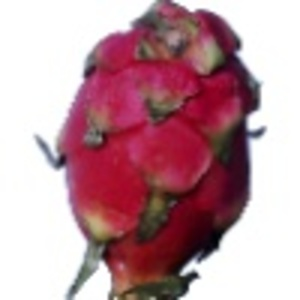pitaia: (36, 1, 267, 300)
